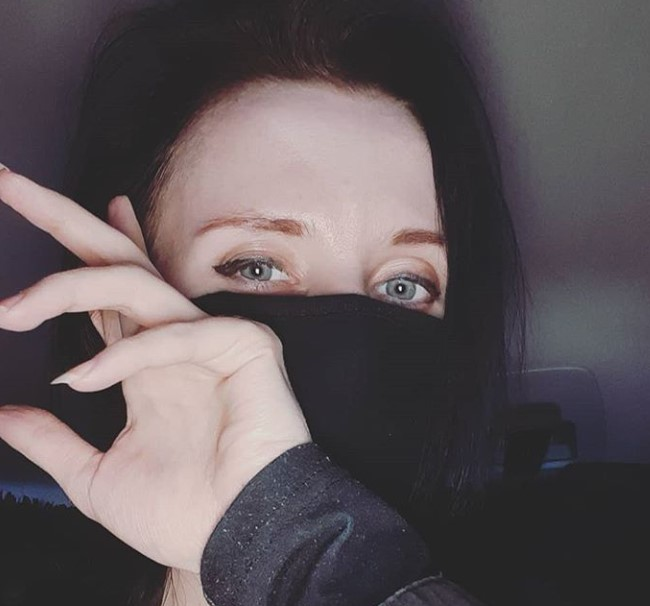face_with_mask: (89, 10, 495, 496)
